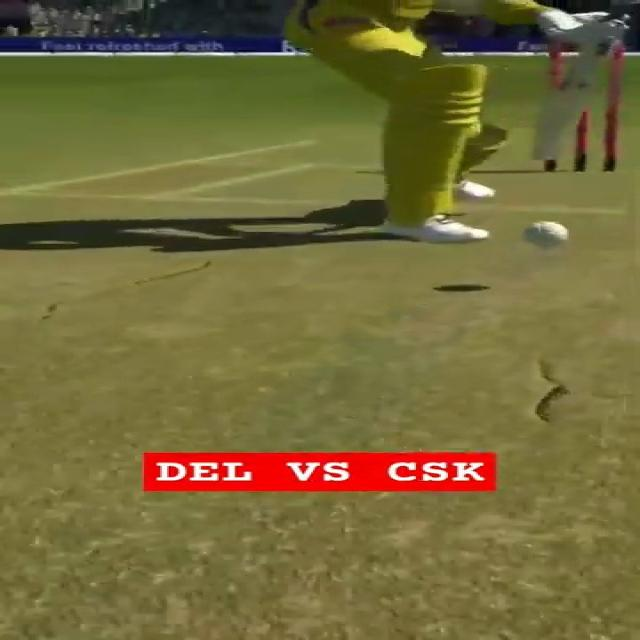ball: (523, 219, 569, 250)
